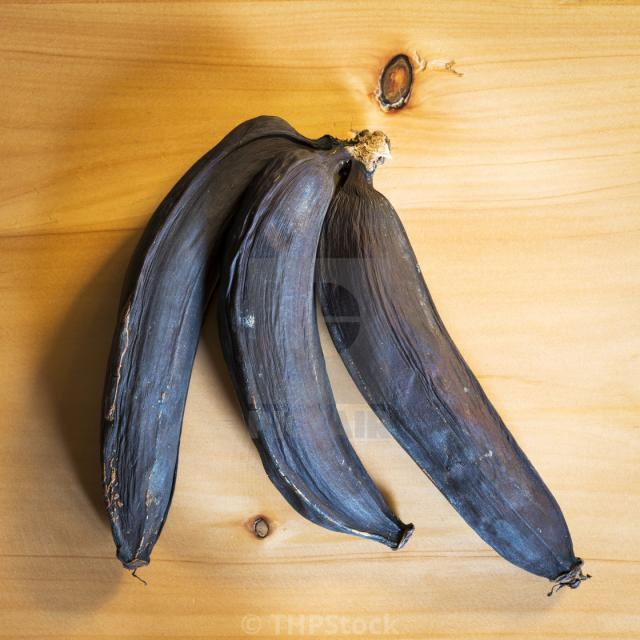Banana: (100, 114, 590, 596)
